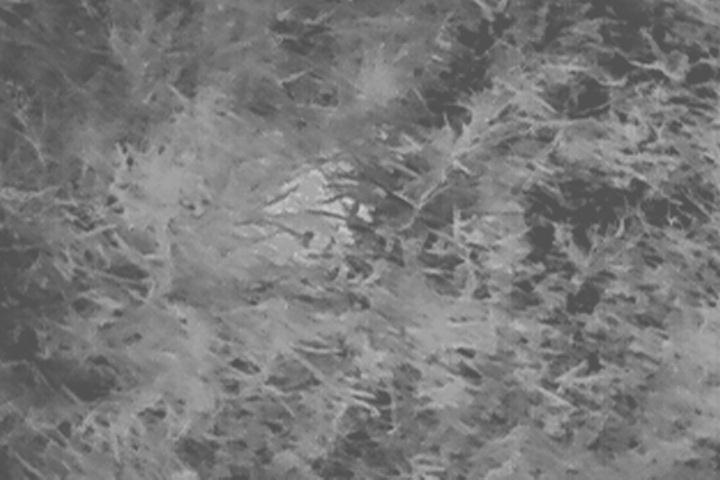landmine: (236, 166, 386, 282)
